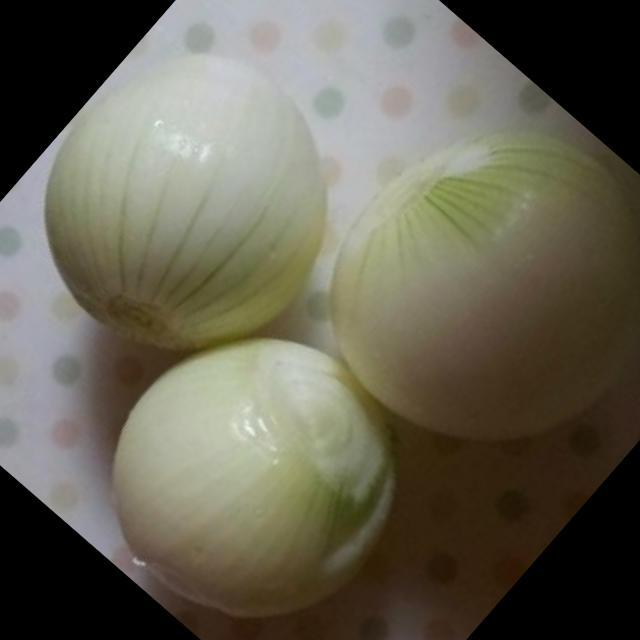Onion: (328, 133, 640, 443), (42, 62, 322, 355), (118, 339, 396, 613)
